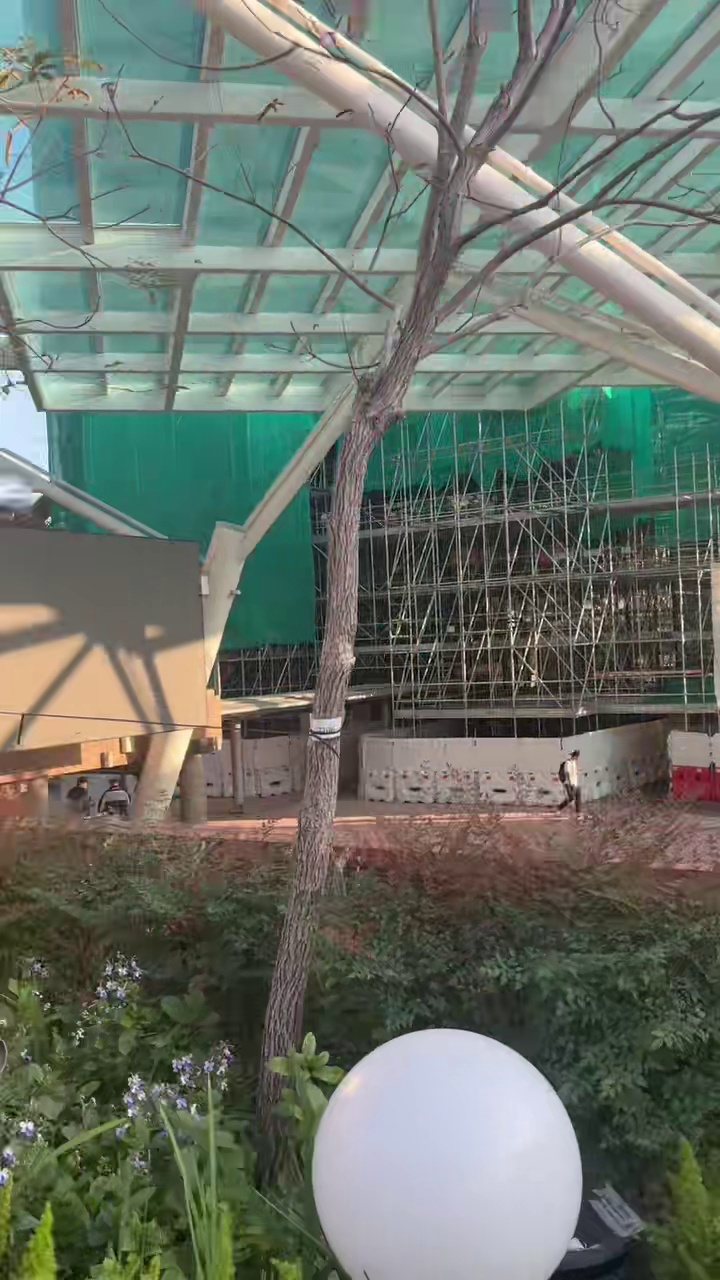Tabebuia chrysantha: (256, 0, 575, 1155)
